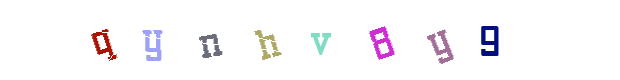8: (309, 0, 389, 80)
9: (449, 0, 529, 80)
H: (270, 0, 350, 80)
N: (205, 0, 285, 80)
Q: (63, 0, 143, 80)
V: (280, 0, 360, 80)
Y: (169, 0, 249, 80), (341, 0, 421, 80)
